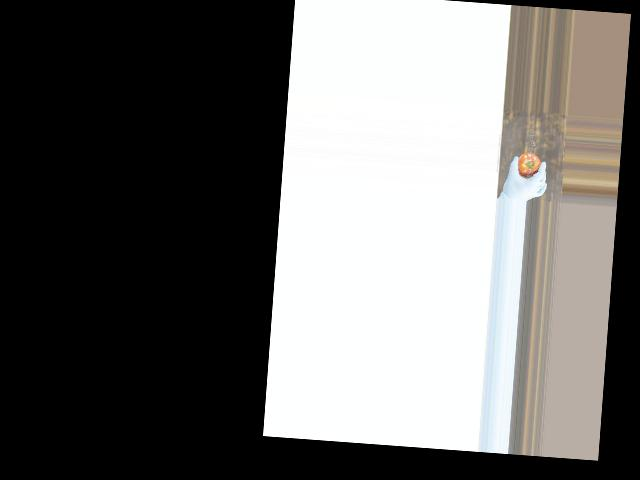tomato: (516, 151, 541, 177)
